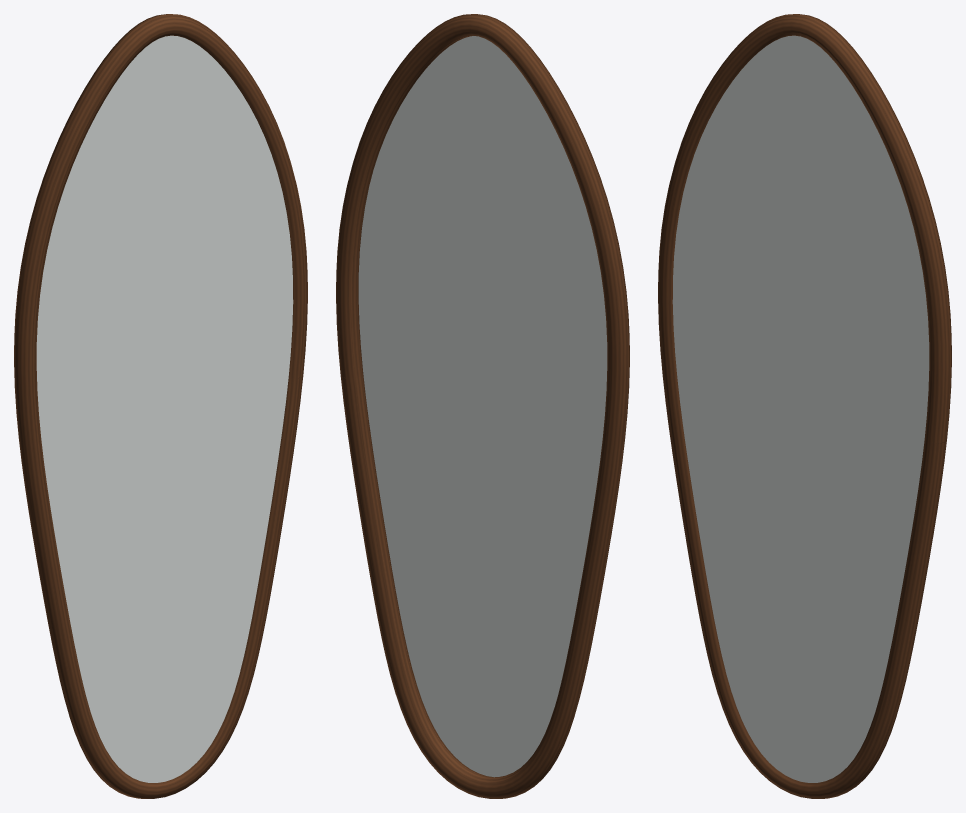
Rendered from organic-walnut-mirror.glb.
3 views of the same model, side by side, from view 1: azimuth 30°, elevation 25°; view 2: azimuth 150°, elevation 25°; view 3: azimuth 330°, elevation 25° (orthographic).
Parts seen in each view (by area): view 1: Organic mirror glass, Sculpted walnut mirror rim; view 2: Organic mirror glass, Sculpted walnut mirror rim; view 3: Organic mirror glass, Sculpted walnut mirror rim.
Part boxes in pixels (bbox=[...]): Organic mirror glass: bbox=[36, 35, 293, 782]; Sculpted walnut mirror rim: bbox=[14, 14, 307, 798]; Organic mirror glass: bbox=[358, 36, 607, 777]; Sculpted walnut mirror rim: bbox=[336, 14, 629, 798]; Organic mirror glass: bbox=[672, 35, 929, 782]; Sculpted walnut mirror rim: bbox=[658, 14, 951, 798].
Bounding box in the file's own units: 0.6899 × 1.77 × 0.048.
2 materials, 1 textured.
